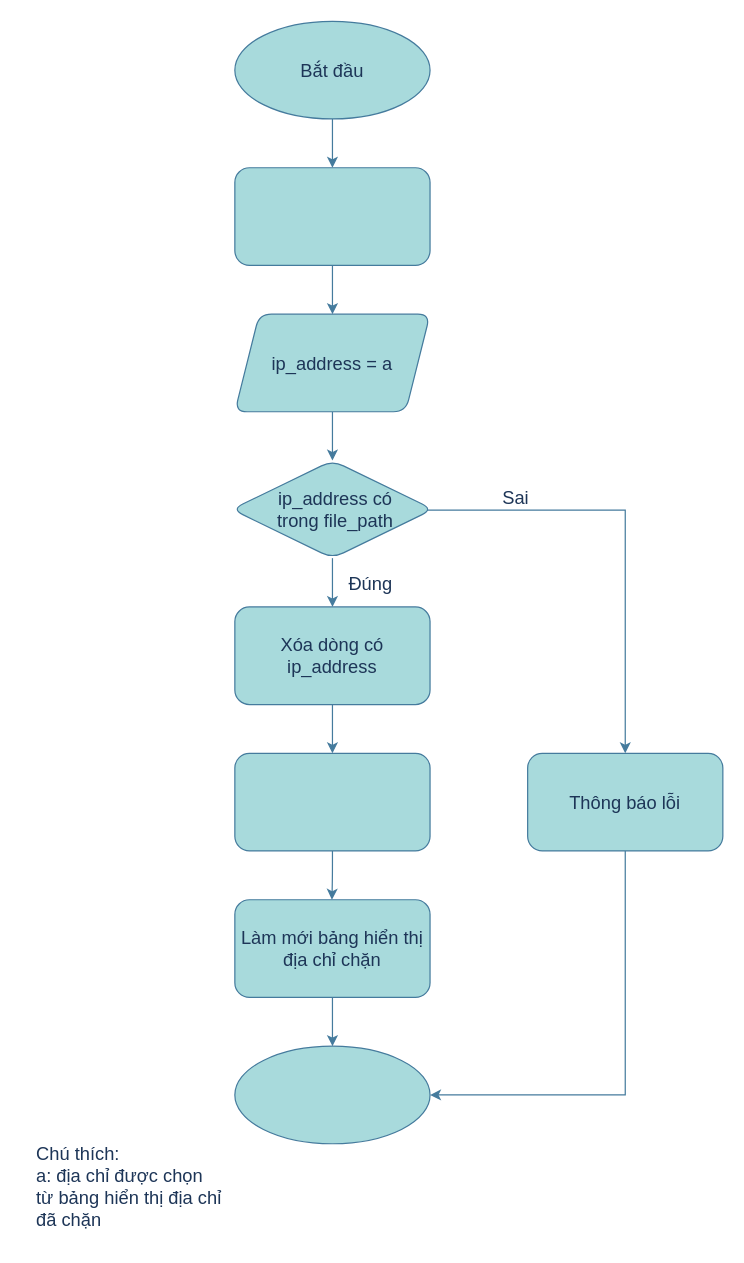
Image size: 744x1263. Some labels were removed from this diagram. The box of each missing label's shape, as (x1, y1, x2, y2) in pixels:
Kết thúc: (234, 1045, 430, 1144)
Nhận file_path: (234, 167, 430, 265)
Thông báo thành công: (234, 752, 430, 851)
